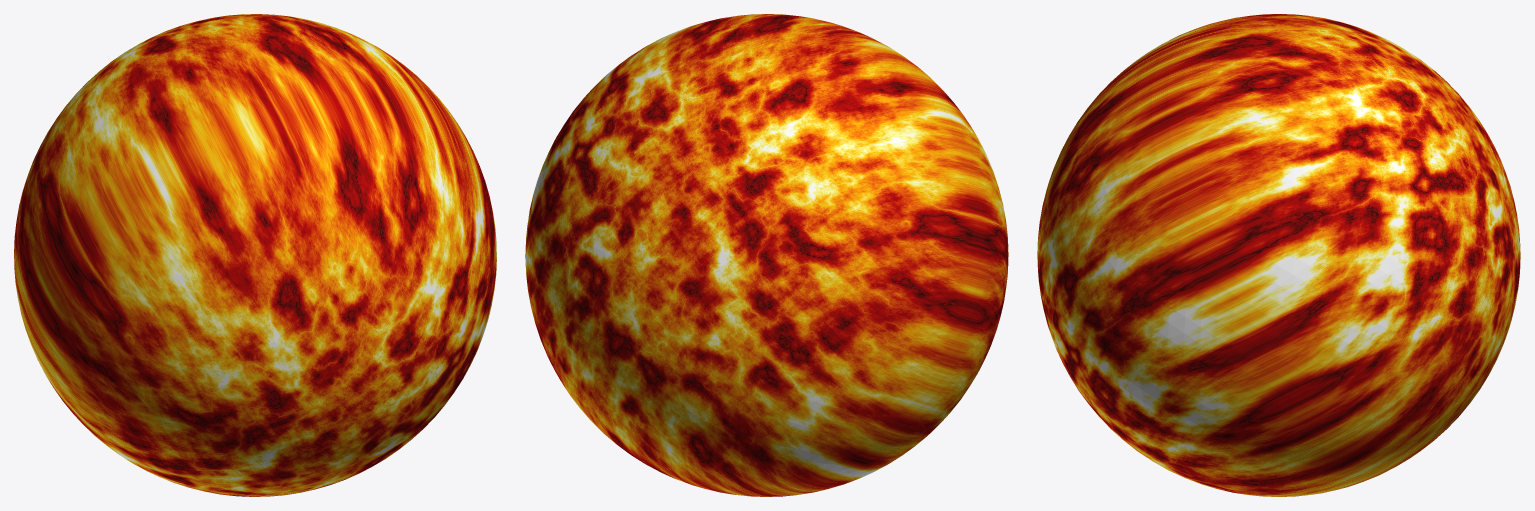
The model's file is fireball.obj.
3 renders of one model, left to right at view 1: azimuth 30°, elevation 25°; view 2: azimuth 150°, elevation 25°; view 3: azimuth 270°, elevation 25°, orthographic.
Parts seen in each view (by area): view 1: Object.1; view 2: Object.1; view 3: Object.1.
Boxes of the visible parts, <box> form: Object.1: <box>14,14,496,496</box>; Object.1: <box>525,14,1008,496</box>; Object.1: <box>1037,14,1520,496</box>.
Size of the model in its own units: 40 by 40 by 40.
1 material, 1 textured.
